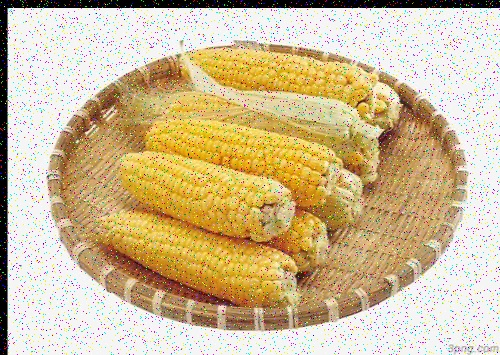corn: (96, 209, 299, 308), (143, 119, 344, 207), (115, 149, 297, 245), (183, 48, 376, 118)
